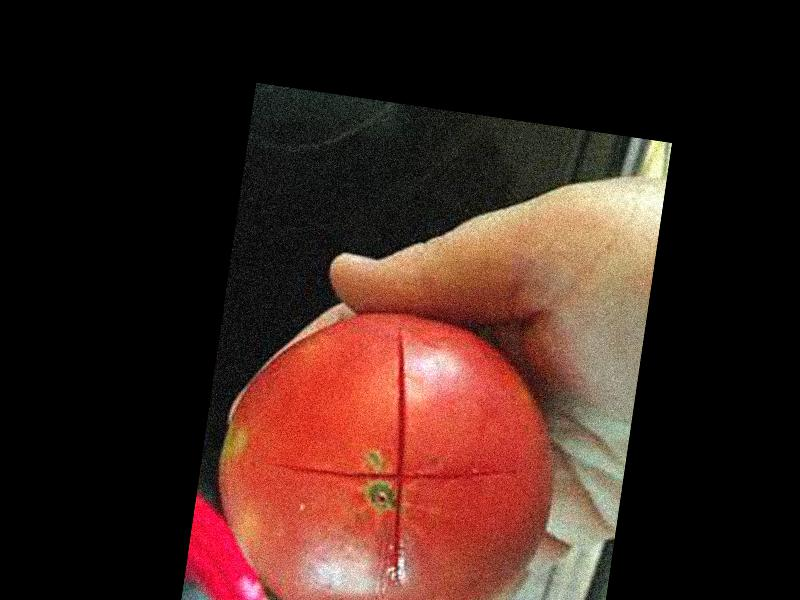Tomato: (199, 289, 576, 600)
